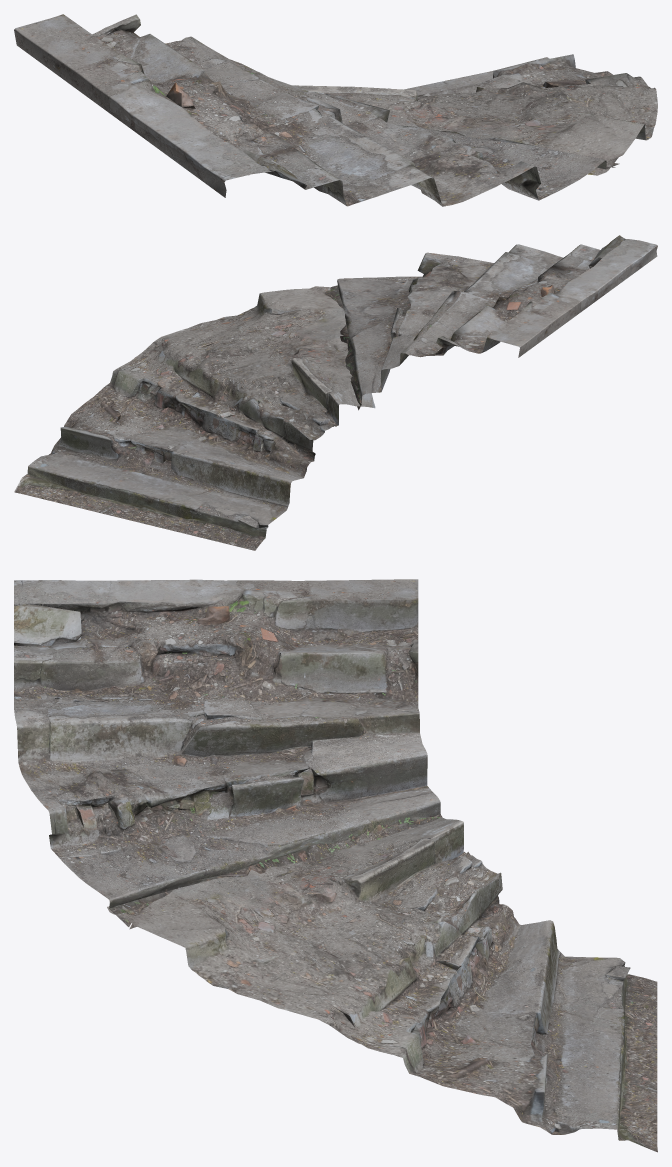
Rendered from SM_Stairs_01_11_R.fbx.
The picture shows the model from 3 angles, top to bottom: view 1: azimuth 30°, elevation 25°; view 2: azimuth 150°, elevation 25°; view 3: azimuth 270°, elevation 25°; orthographic projection. The views are drawn at different scales.
Visible parts, largest first — view 1: sm_Stairs_01_11_R_LOD0; view 2: sm_Stairs_01_11_R_LOD0; view 3: sm_Stairs_01_11_R_LOD0.
Boxes of the visible parts, bbox=[...] form: sm_Stairs_01_11_R_LOD0: bbox=[14, 14, 657, 206]; sm_Stairs_01_11_R_LOD0: bbox=[14, 235, 657, 550]; sm_Stairs_01_11_R_LOD0: bbox=[14, 579, 657, 1152].
Size of the model in its own units: 319 by 352 by 152.
